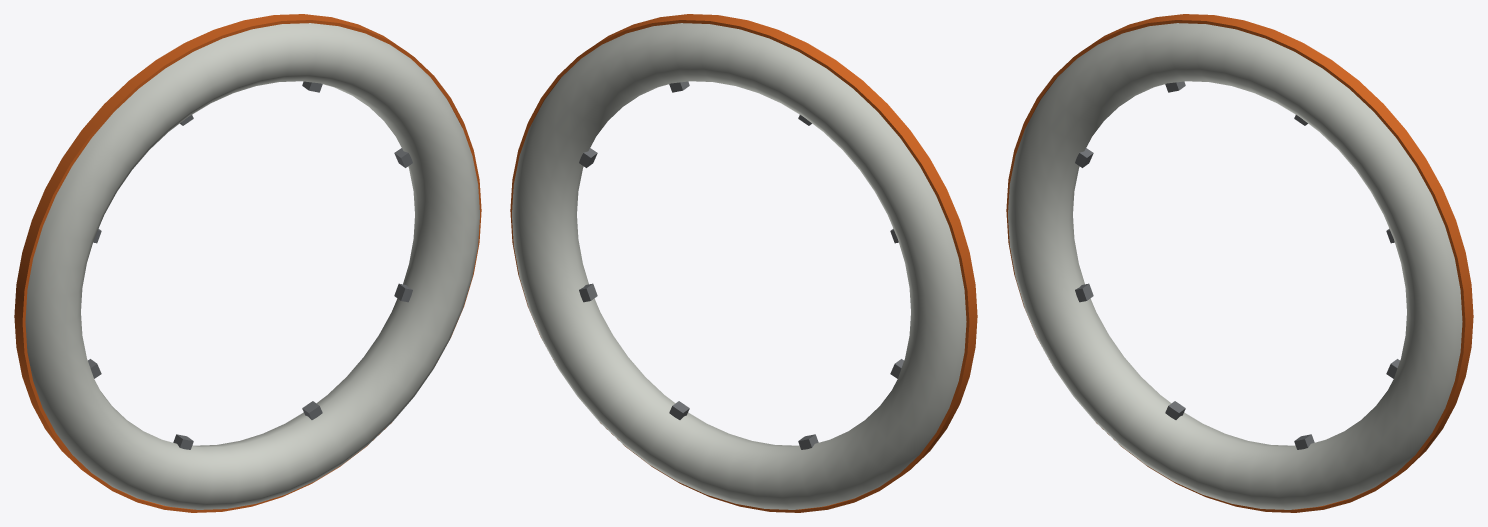
The picture shows the model from 3 angles, left to right: view 1: azimuth 30°, elevation 25°; view 2: azimuth 150°, elevation 25°; view 3: azimuth 330°, elevation 25°; orthographic projection.
Visible parts, largest first — view 1: u70_hx; view 2: u70_hx; view 3: u70_hx.
Boxes of the visible parts, x1,y1,x2,y2 form: u70_hx: (14, 14, 481, 512); u70_hx: (510, 14, 977, 512); u70_hx: (1006, 14, 1473, 512).
Bounding box in the file's own units: 3.91 × 3.91 × 0.48.
